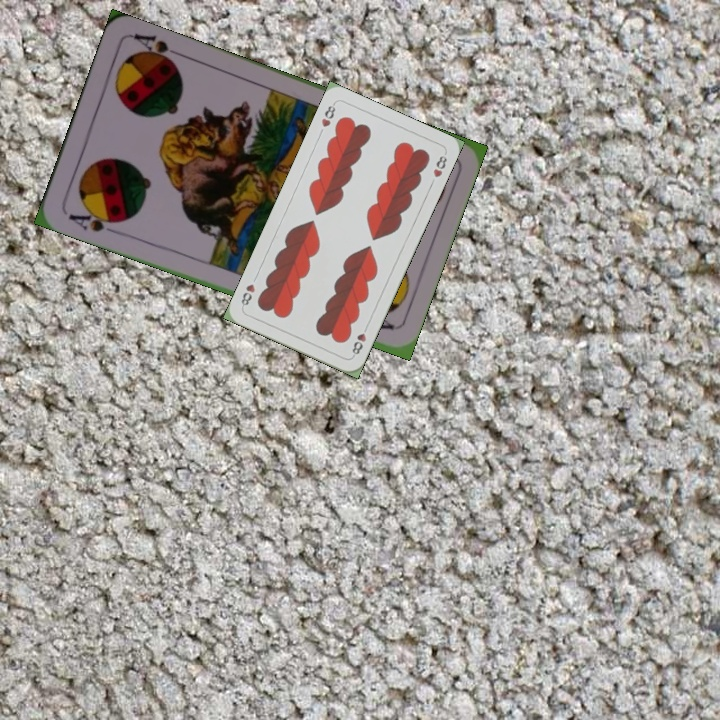H8: (348, 321, 371, 359), (317, 99, 338, 130)
SA: (64, 204, 123, 235)
